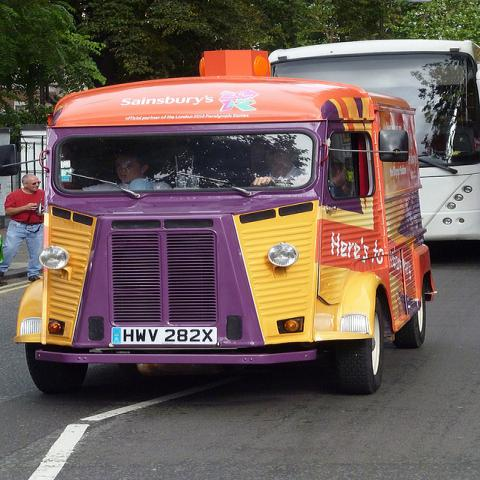bus: (268, 37, 480, 257)
truck: (17, 49, 438, 396)
